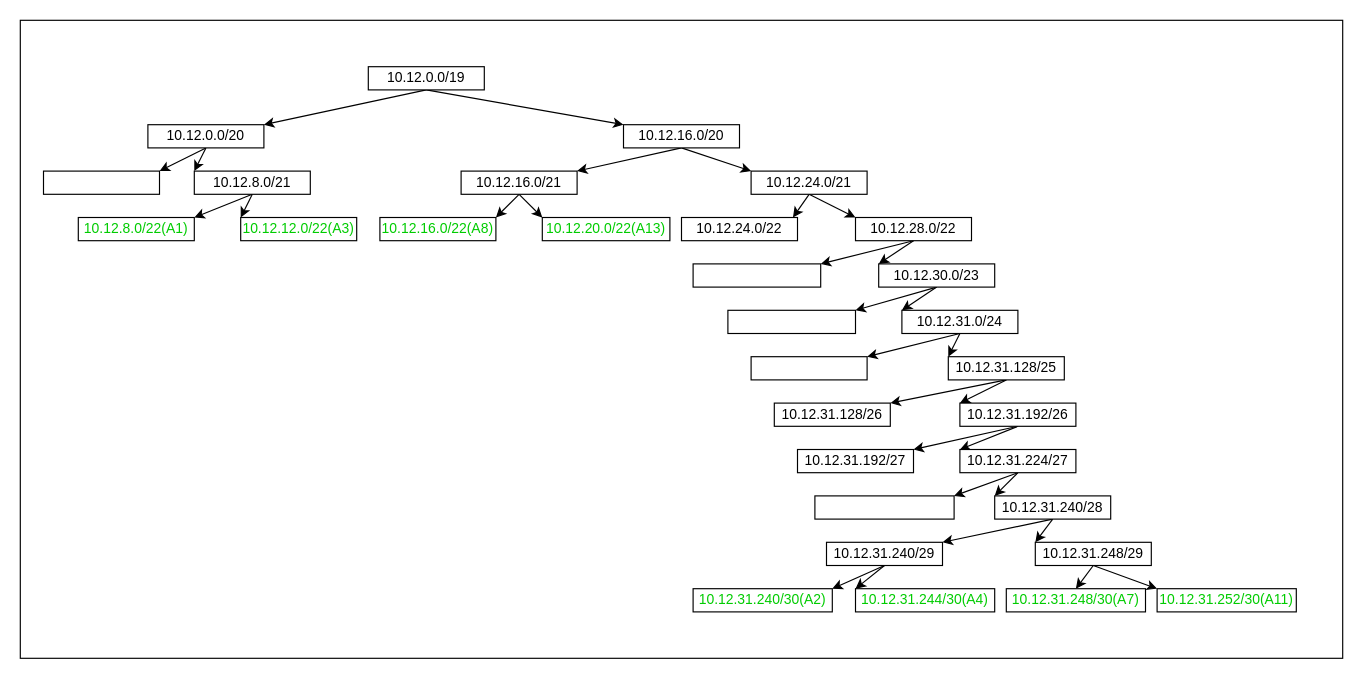
Some shapes in this 1363 by 679 pixel diagram are drawn without their labels. Here are the shapes that lost their labels. From the top down, the centre of each, then its label:
the point at 101,182: 10.12.0.0/21(A5)
the point at 756,275: 10.12.28.0/23(A9)
the point at 791,321: 10.12.30.0/24(A12)
the point at 808,368: 10.12.31.0/25(A6)
the point at 884,507: 10.12.31.224/28(A10)
